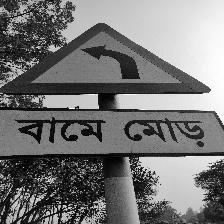Left-Turn: (1, 22, 217, 155)
